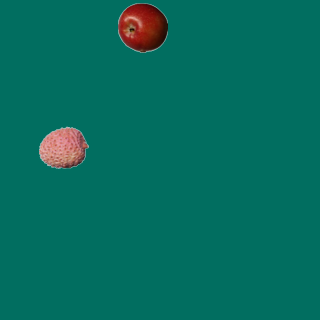Apple Braeburn: (117, 2, 167, 52)
Lychee: (38, 122, 88, 172)
